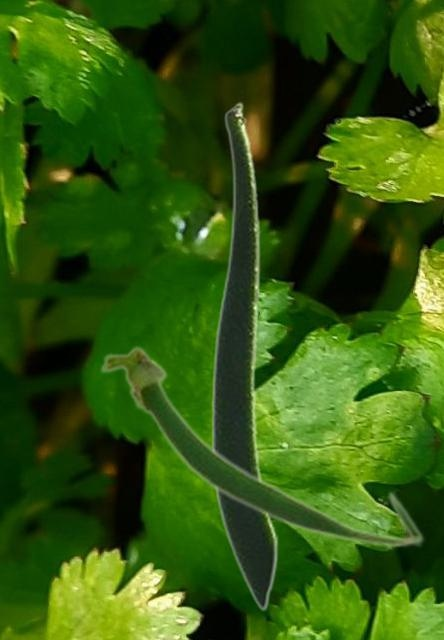french_bean: (98, 343, 424, 548), (210, 101, 278, 611)
